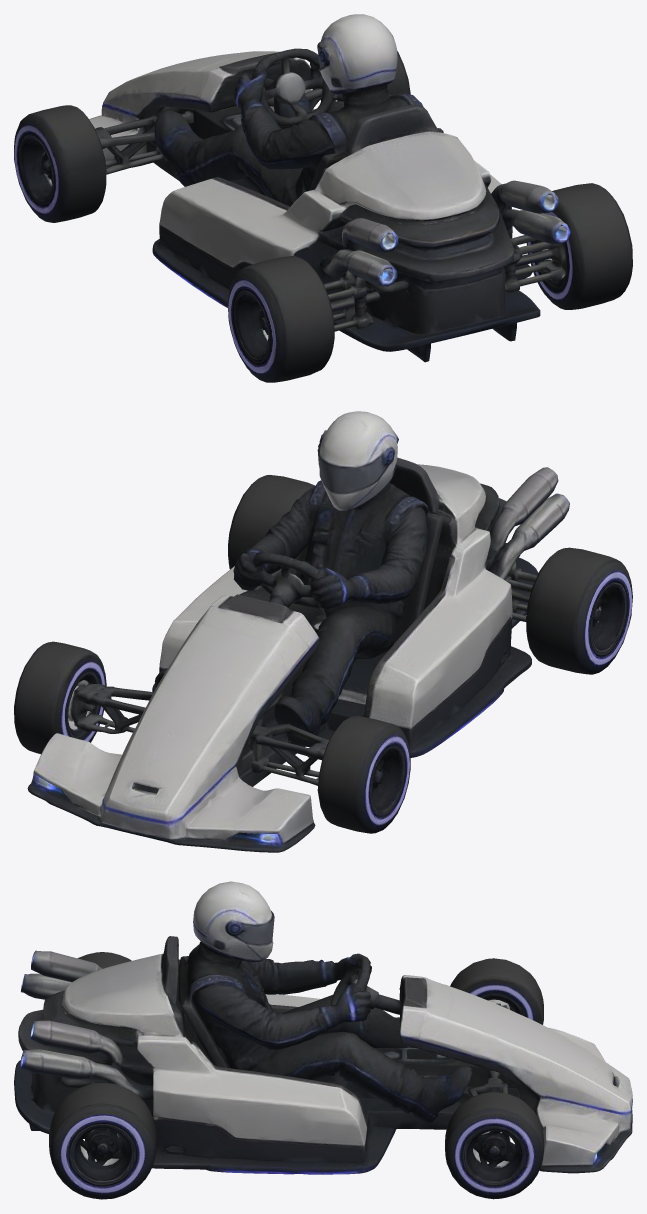
File: juris-final.glb
3 views of the same model, one above another, from view 1: azimuth 30°, elevation 25°; view 2: azimuth 150°, elevation 25°; view 3: azimuth 270°, elevation 25° (orthographic). The views are drawn at different scales.
Parts seen in each view (by area): view 1: chassis, wheel-rl, wheel-rr, wheel-fl, wheel-fr; view 2: chassis, wheel-rl, wheel-fl, wheel-fr, wheel-rr; view 3: chassis, wheel-rr, wheel-fr, wheel-fl, wheel-rl.
Boxes of the visible parts, x1=… form: chassis: x1=89, y1=14, x2=570, y2=362; wheel-rl: x1=227, y1=256, x2=334, y2=382; wheel-rr: x1=526, y1=183, x2=632, y2=309; wheel-fl: x1=14, y1=105, x2=106, y2=222; wheel-fr: x1=320, y1=51, x2=410, y2=102; chassis: x1=27, y1=411, x2=569, y2=852; wheel-rl: x1=526, y1=547, x2=632, y2=674; wheel-fl: x1=317, y1=716, x2=410, y2=833; wheel-fr: x1=14, y1=641, x2=106, y2=753; wheel-rr: x1=228, y1=475, x2=315, y2=569; chassis: x1=14, y1=881, x2=632, y2=1174; wheel-rr: x1=49, y1=1083, x2=156, y2=1199; wheel-fr: x1=445, y1=1092, x2=543, y2=1199; wheel-fl: x1=450, y1=958, x2=543, y2=1024; wheel-rl: x1=78, y1=952, x2=131, y2=968.
Size of the model in its own units: 2.7 by 1.93 by 4.5.
1 material, 1 textured.
